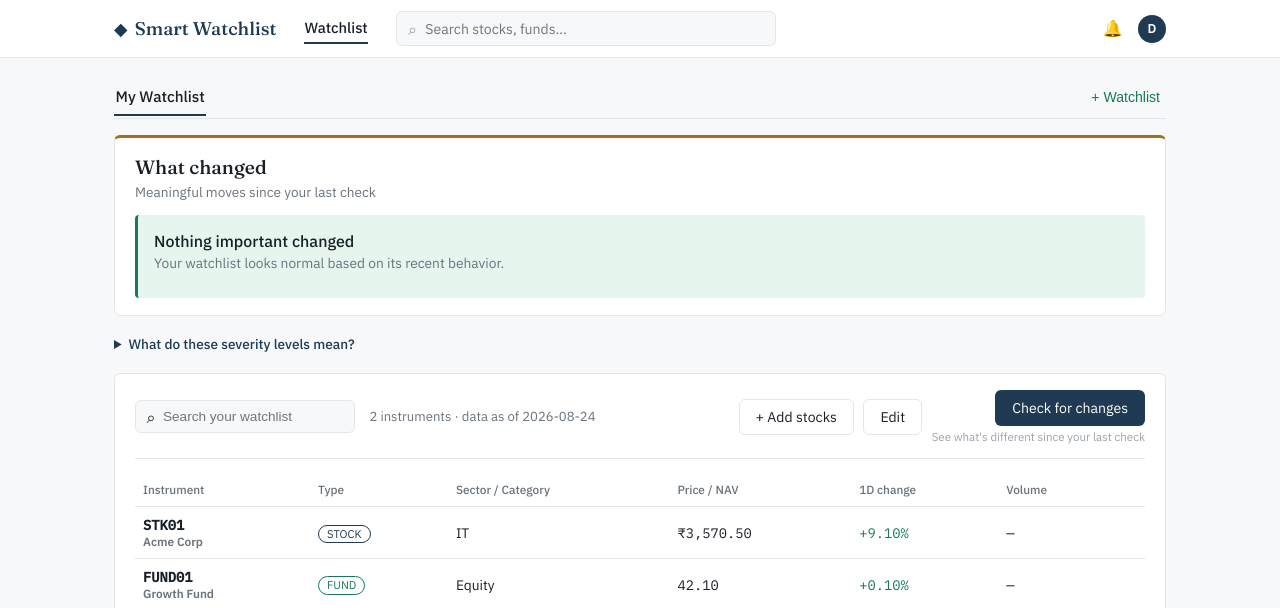
Test: App — stale watchlist recovery (Issue 3) › re-syncs the watchlist list and drops the stale selection when adding fails with a 404
Expected: the text "STK01" is shown, [143,516,184,534]
Click the button "+ Add stocks" at (796,417), box [739,399,854,435]
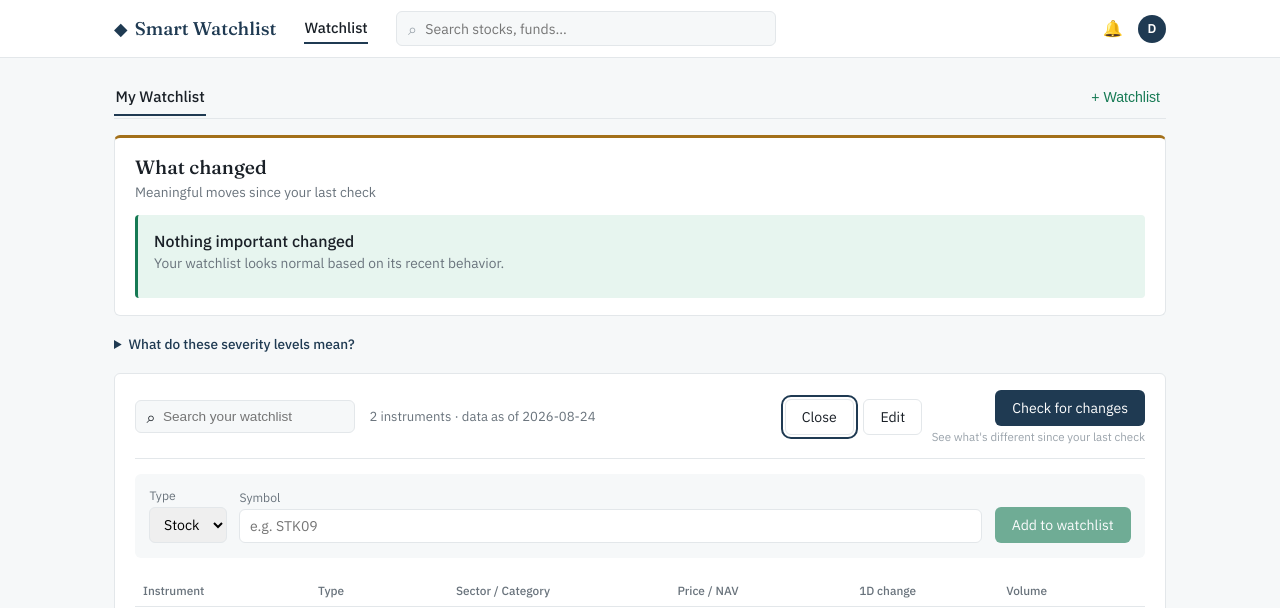
Type "stk09" into the field labelled "Symbol" at (611,526), box [239,509,982,543]
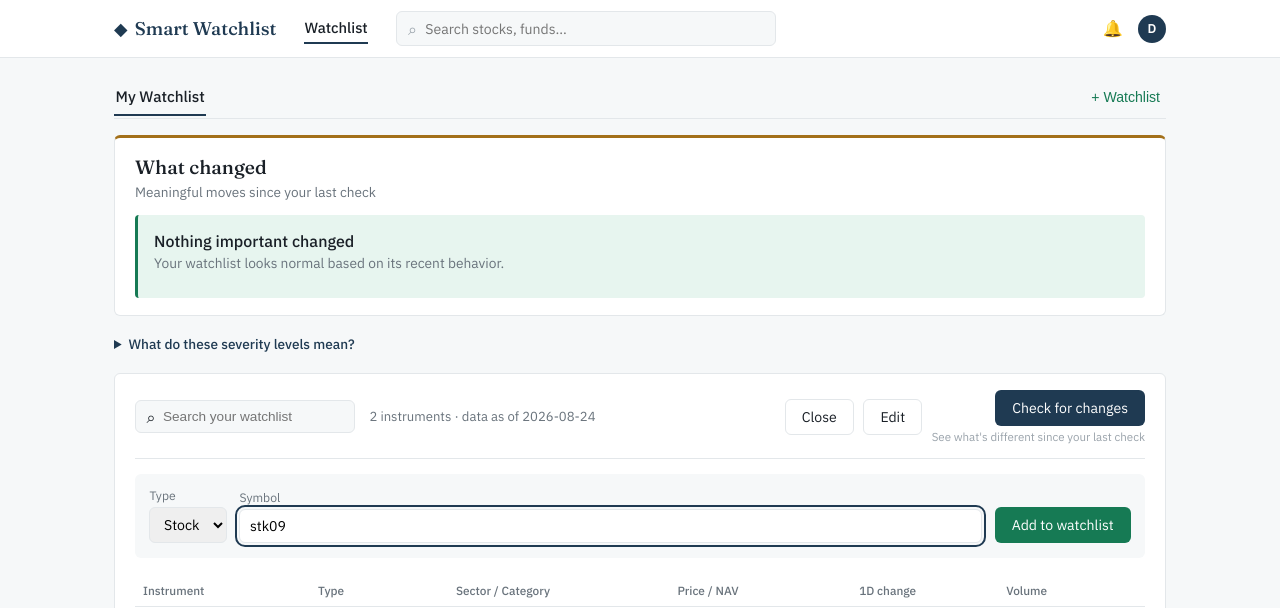
Click the button "Add to watchlist" at (1063,525), box [995,507,1131,543]
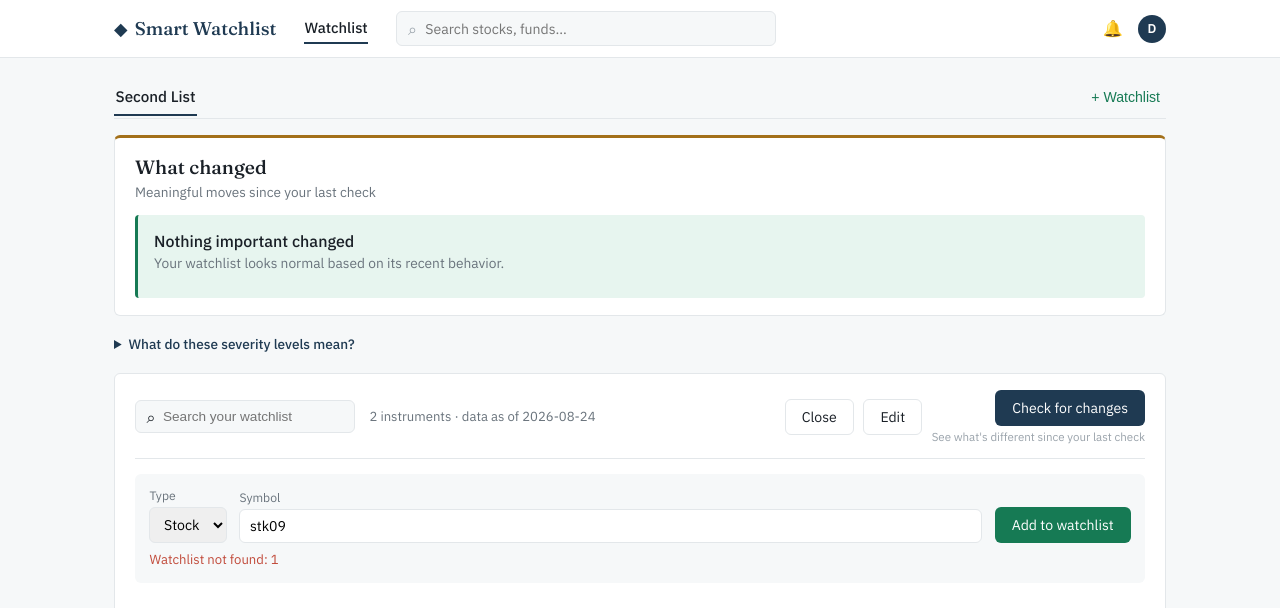
Now the tab "My Watchlist" is gone
Now the tab "Second List" is shown, box [114,78,197,116]
